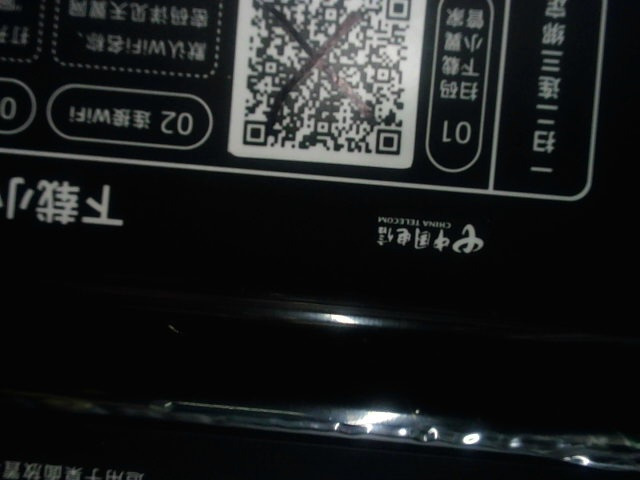AB_ChinaTelecom: (368, 214, 490, 257)
